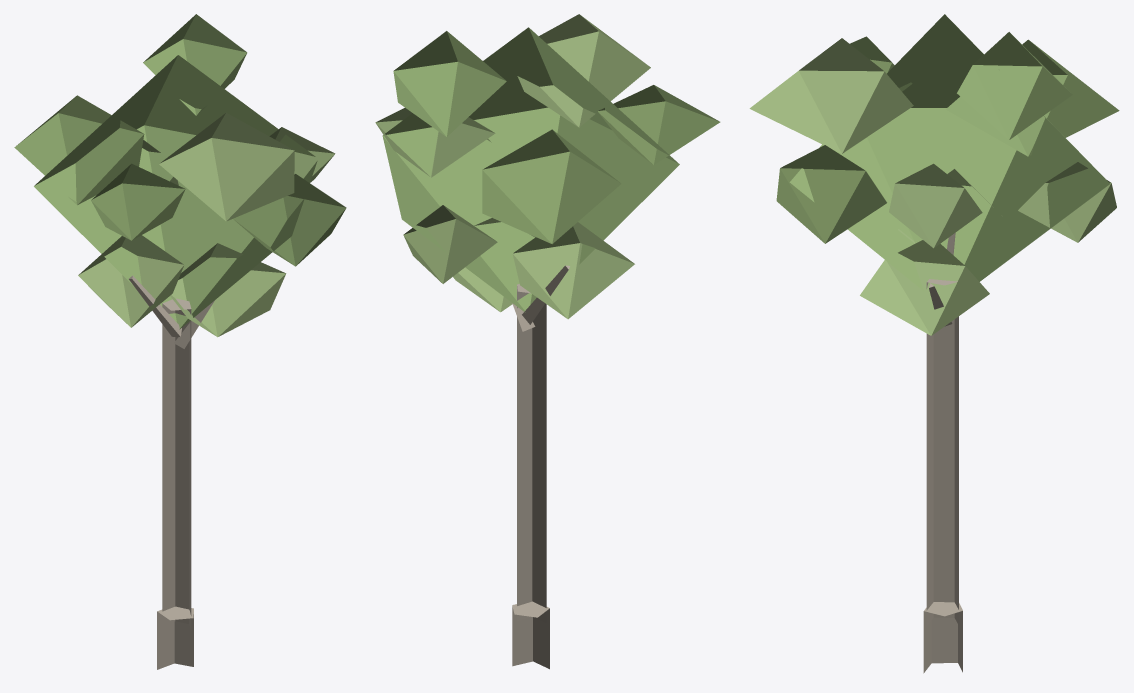
The model's file is tree.temp.birch__spring.glb.
3 views of the same model, side by side, from view 1: azimuth 30°, elevation 25°; view 2: azimuth 150°, elevation 25°; view 3: azimuth 270°, elevation 25° (orthographic). The views are drawn at different scales.
Visible parts, largest first — view 1: tree.temp.birch__spring; view 2: tree.temp.birch__spring; view 3: tree.temp.birch__spring.
Boxes of the visible parts, x1,y1,x2,y2 form: tree.temp.birch__spring: (14, 14, 346, 669); tree.temp.birch__spring: (375, 14, 720, 669); tree.temp.birch__spring: (749, 14, 1119, 673).
Size of the model in its own units: 7.2 by 15.29 by 7.73.
